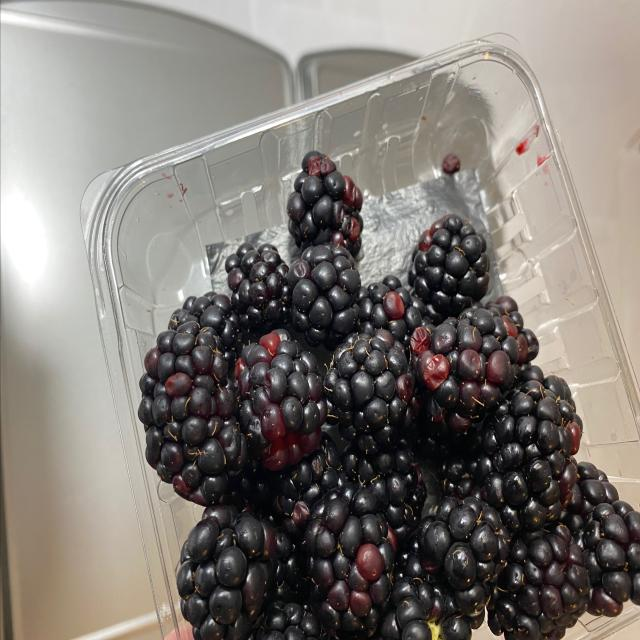blackberries: (135, 142, 640, 640)
